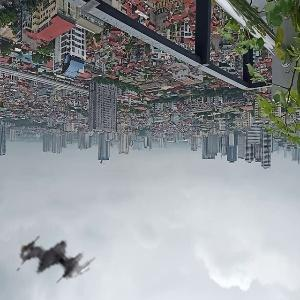drone: (12, 211, 100, 299)
